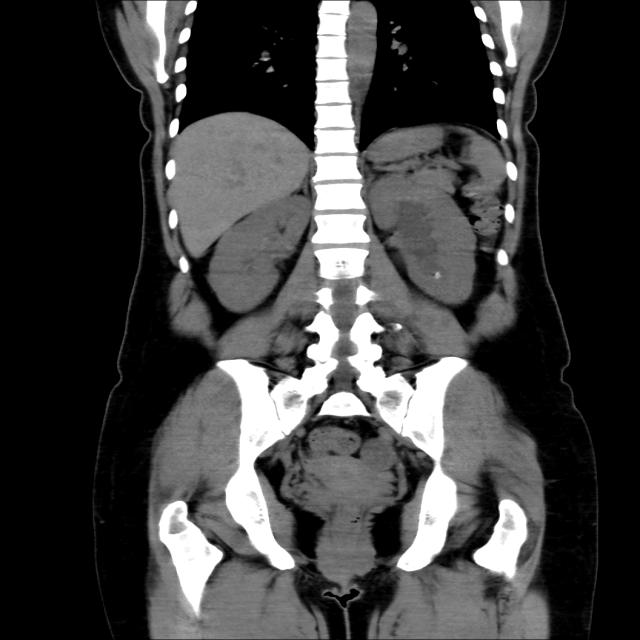kidneystone: (433, 271, 441, 277)
